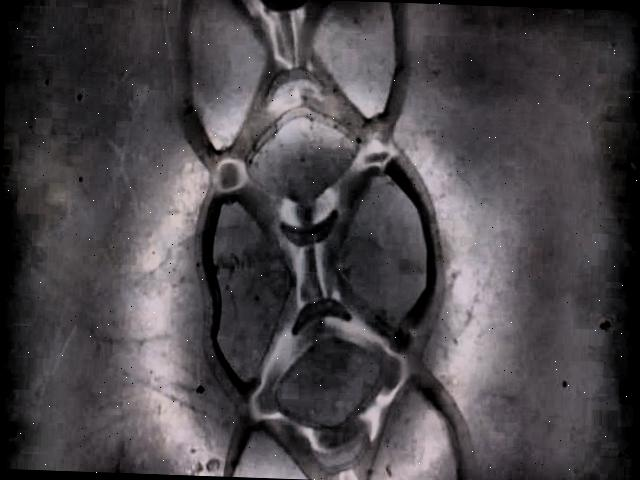Plastic: (162, 0, 471, 480)
